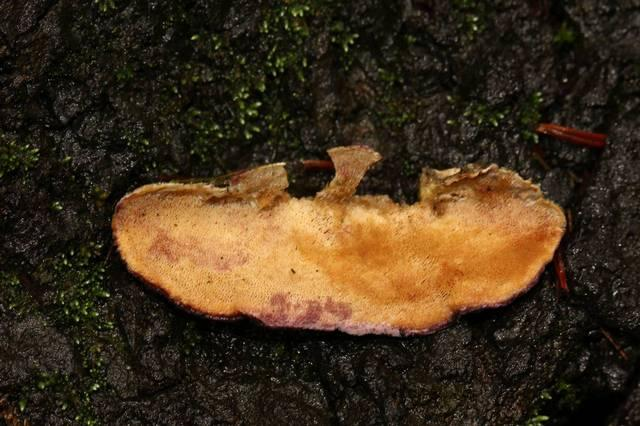Non-edible Mushroom: (109, 143, 570, 338)
